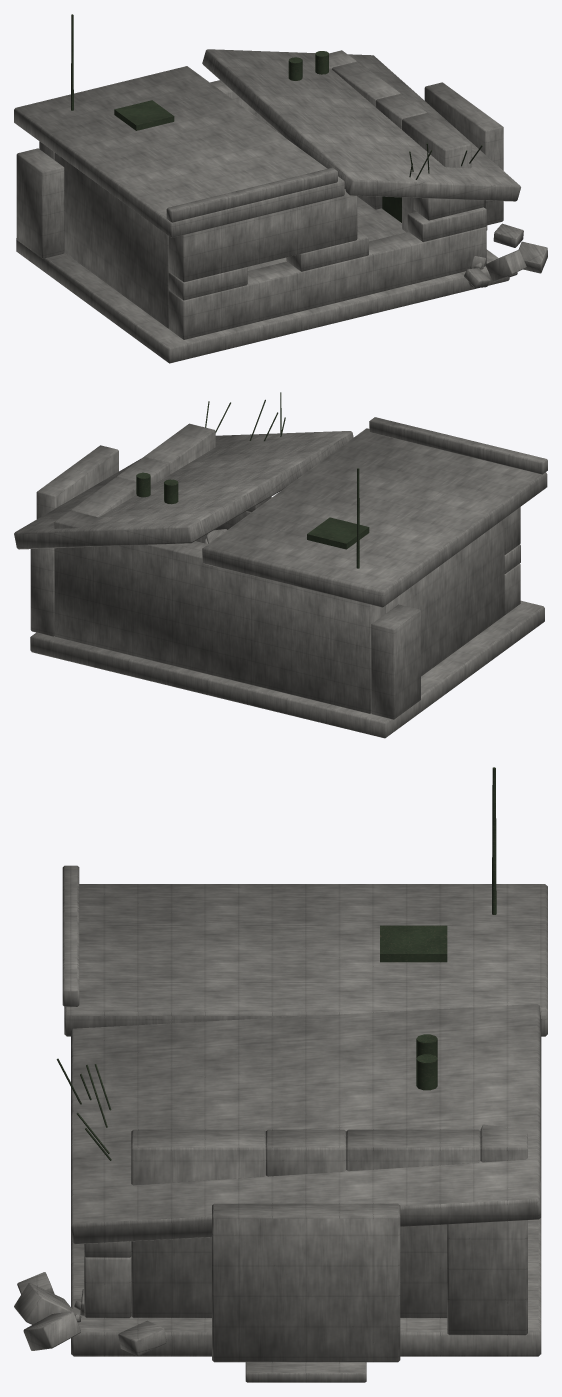
The model's file is SM_Bunker_Enemigo_Danado.fbx.
3 renders of one model, top to bottom at view 1: azimuth 30°, elevation 25°; view 2: azimuth 150°, elevation 25°; view 3: azimuth 270°, elevation 25°, orthographic. The views are drawn at different scales.
Parts seen in each view (by area): view 1: SM_Bunker_Enemigo_Danado; view 2: SM_Bunker_Enemigo_Danado; view 3: SM_Bunker_Enemigo_Danado.
Part boxes in pixels (box(x1,y1,x2,y2)): SM_Bunker_Enemigo_Danado: box(14, 14, 547, 363); SM_Bunker_Enemigo_Danado: box(14, 392, 547, 738); SM_Bunker_Enemigo_Danado: box(14, 767, 547, 1382).
Size of what is drawn, in the model's own units: 10.15 by 7.95 by 6.
